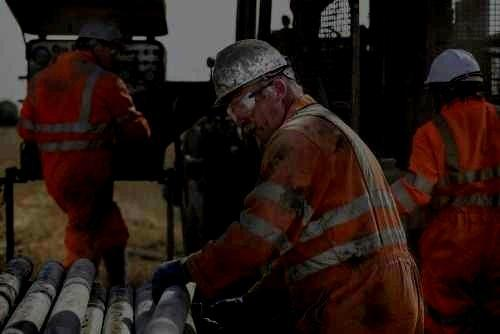helmet: (212, 39, 303, 145), (424, 48, 484, 103), (71, 21, 122, 70)
